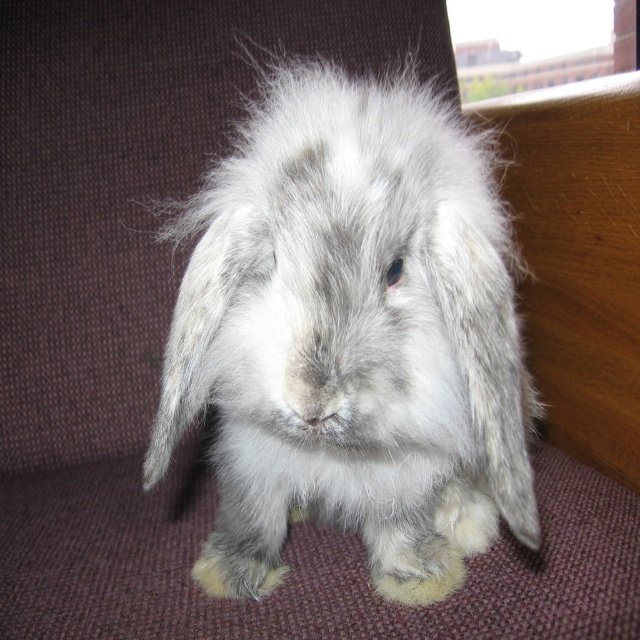Rabbit: (120, 27, 553, 608)
